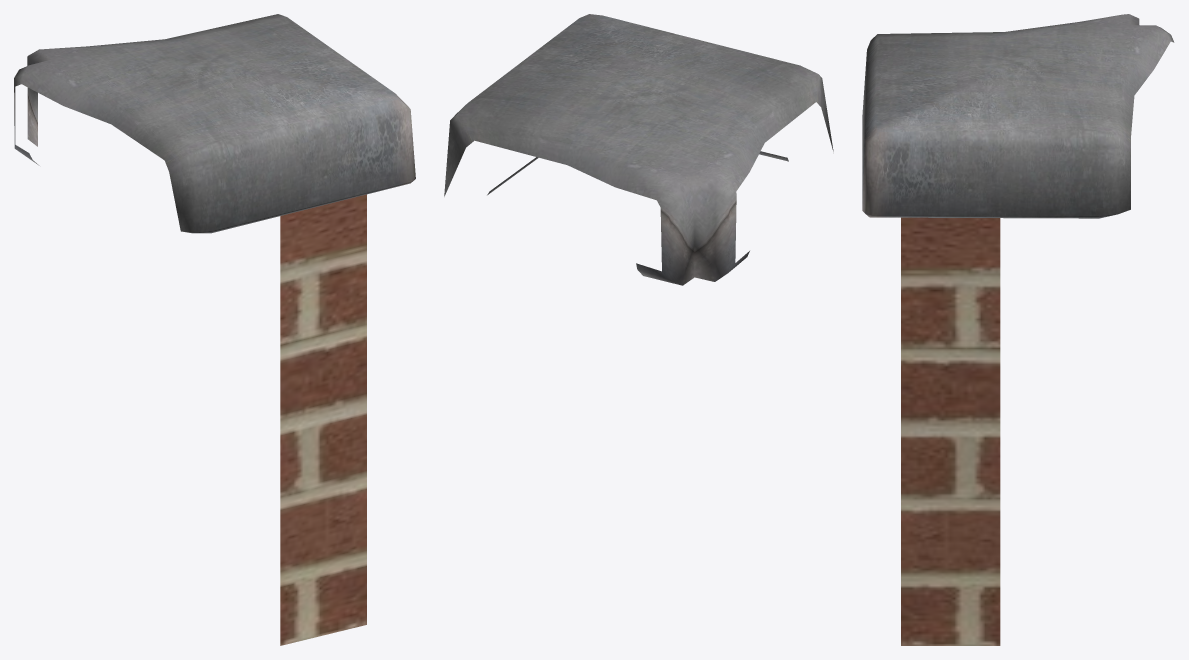
File: SM_Roof_Edge_Flashing_Corner_01.glb
3 renders of one model, left to right at view 1: azimuth 30°, elevation 25°; view 2: azimuth 150°, elevation 25°; view 3: azimuth 270°, elevation 25°, orthographic. The views are drawn at different scales.
Parts seen in each view (by area): view 1: SM_Roof_Edge_Flashing_Corner_01; view 2: SM_Roof_Edge_Flashing_Corner_01; view 3: SM_Roof_Edge_Flashing_Corner_01.
Part boxes in pixels (<box>): SM_Roof_Edge_Flashing_Corner_01: <box>14,14,415,645</box>; SM_Roof_Edge_Flashing_Corner_01: <box>444,14,833,285</box>; SM_Roof_Edge_Flashing_Corner_01: <box>862,14,1174,645</box>.
Bounding box in the file's own units: 0.3151 × 0.5949 × 0.3151.
2 materials, 2 textured.
